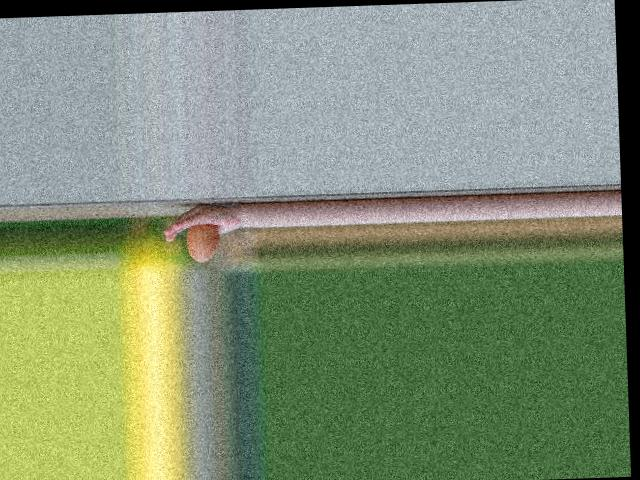egg: (186, 223, 221, 262)
